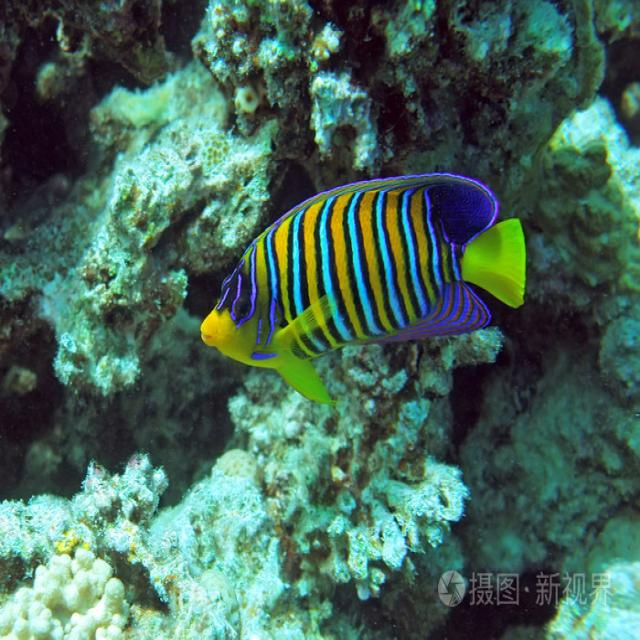AngelFish: (203, 180, 525, 389)
